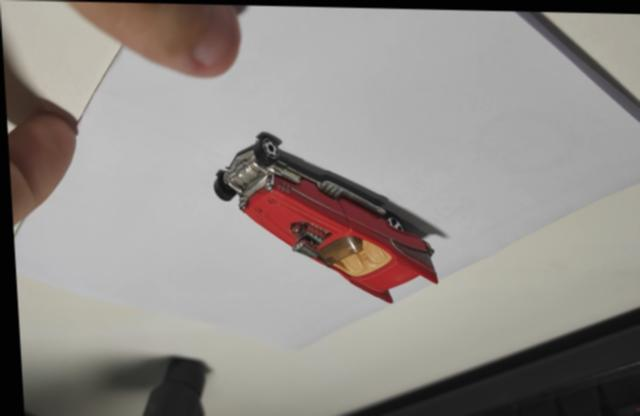03_V8: (211, 130, 440, 301)
